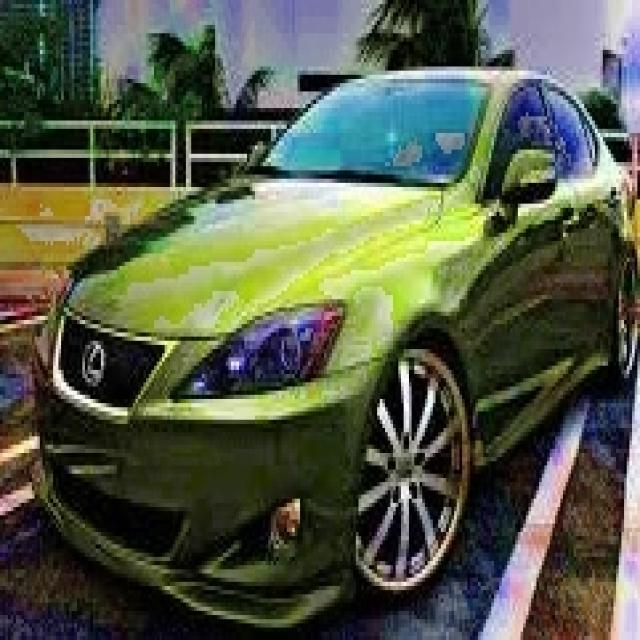green: (32, 62, 640, 640)
